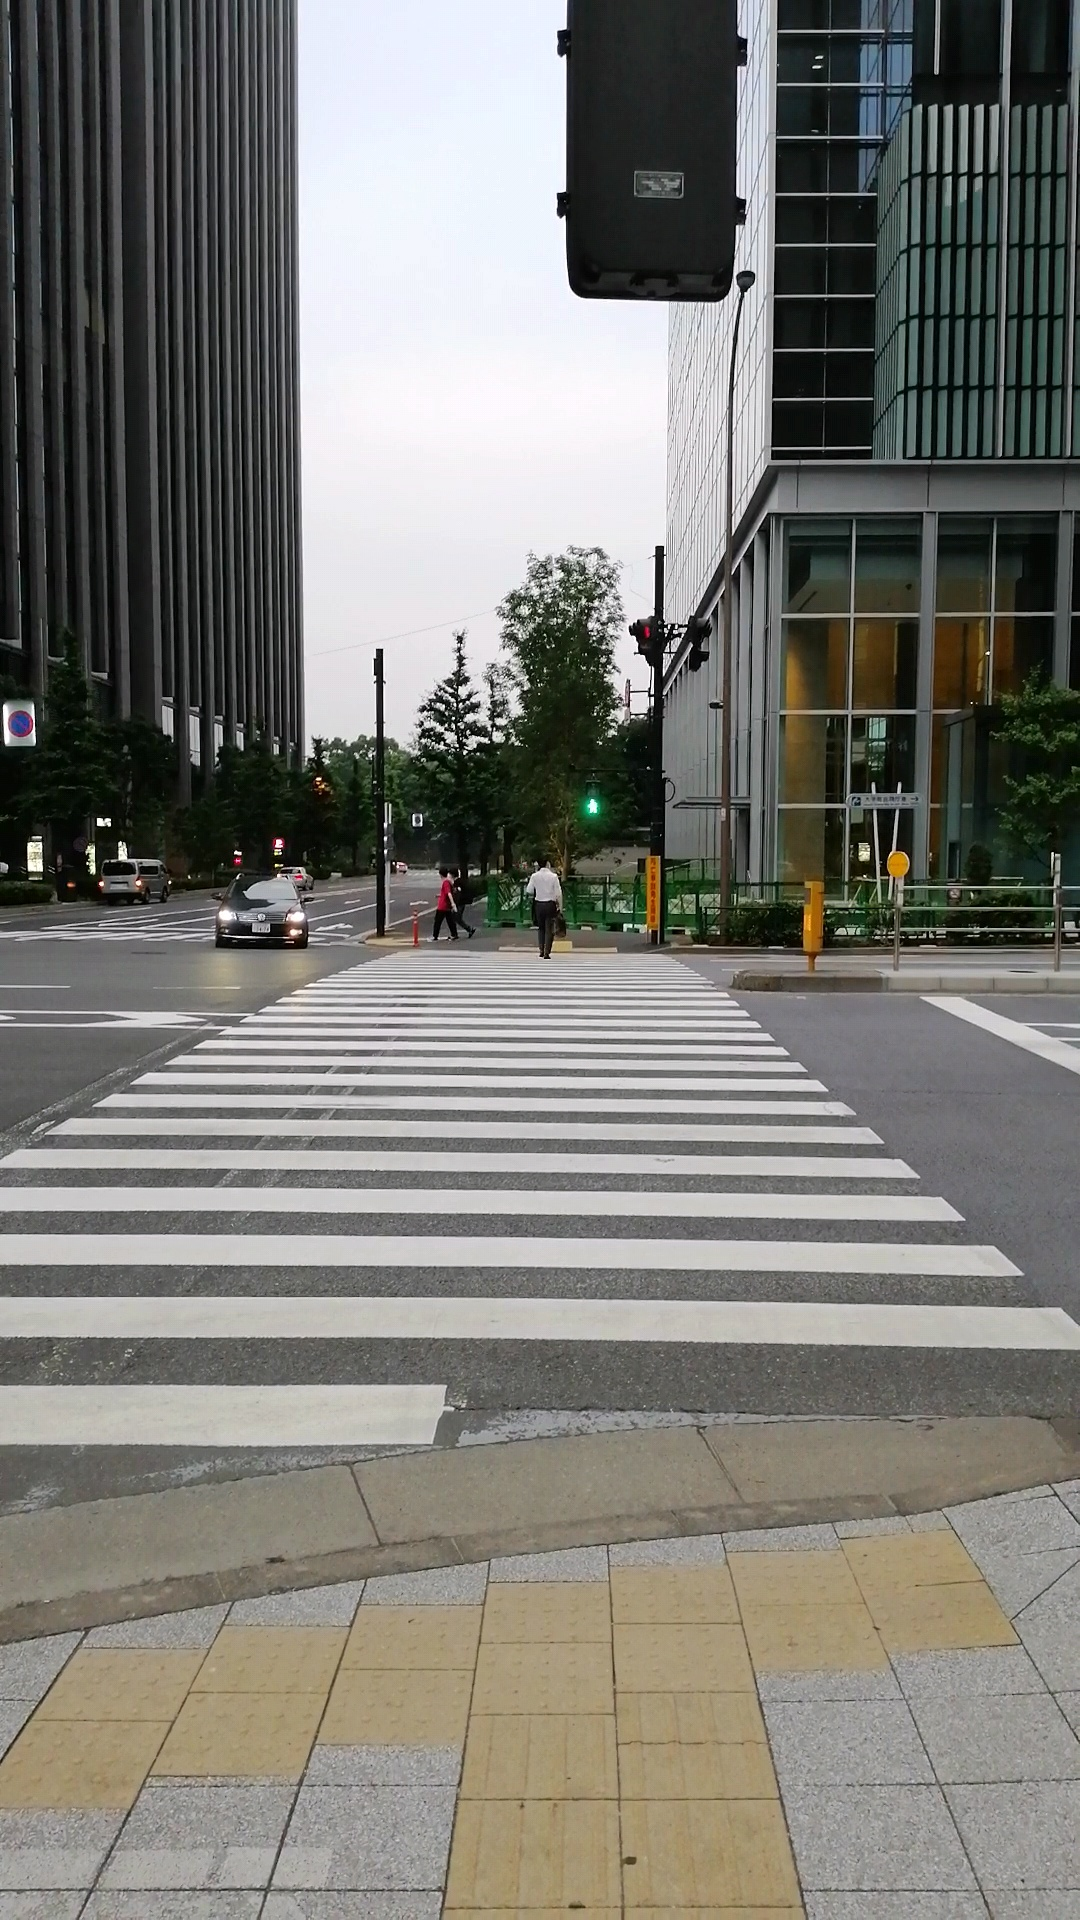green: (582, 781, 603, 816)
